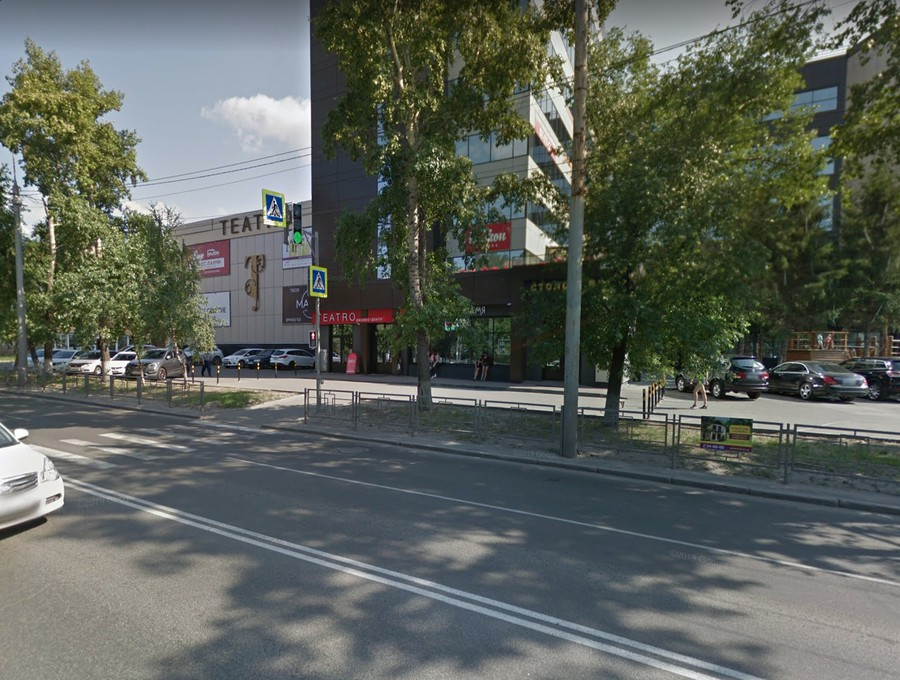Traffic Light-red: (304, 327, 323, 353)
